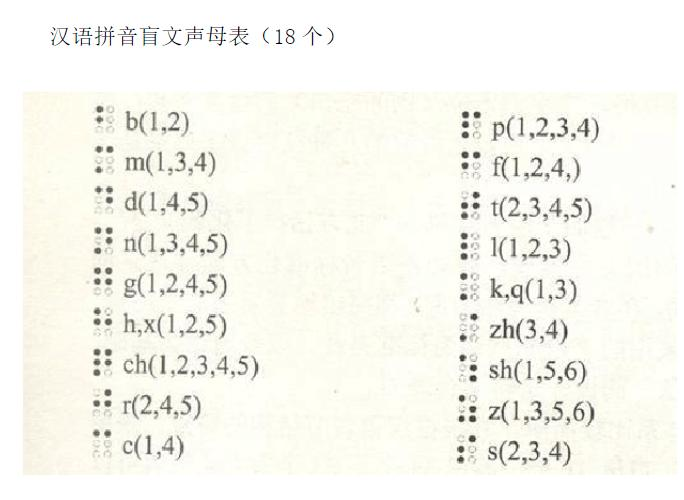Braille: (455, 434, 477, 466), (94, 184, 115, 216), (91, 428, 112, 460), (93, 306, 114, 338), (95, 104, 116, 135), (461, 111, 482, 141), (95, 145, 116, 175), (458, 353, 478, 384), (93, 267, 114, 296), (457, 394, 477, 424), (93, 348, 112, 378), (92, 389, 112, 417), (462, 190, 480, 221), (460, 232, 479, 261), (460, 313, 479, 342), (460, 272, 478, 302), (94, 227, 114, 254), (461, 151, 480, 179)
